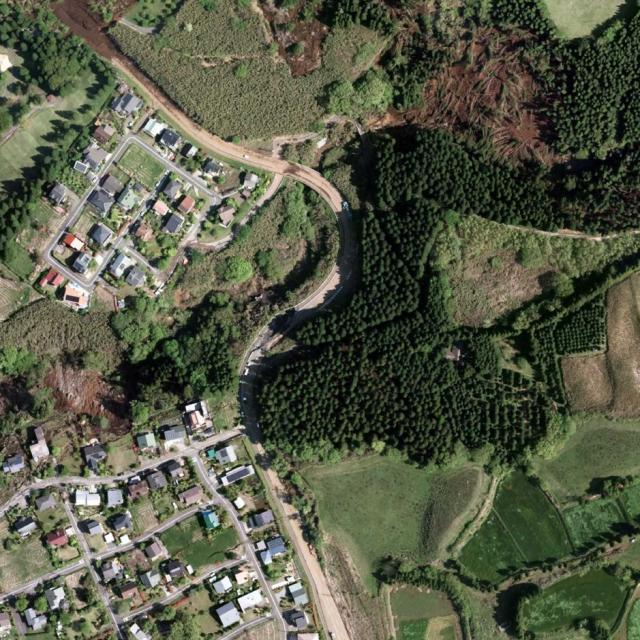landslide: (382, 28, 551, 163), (260, 0, 330, 75), (44, 364, 125, 427)
